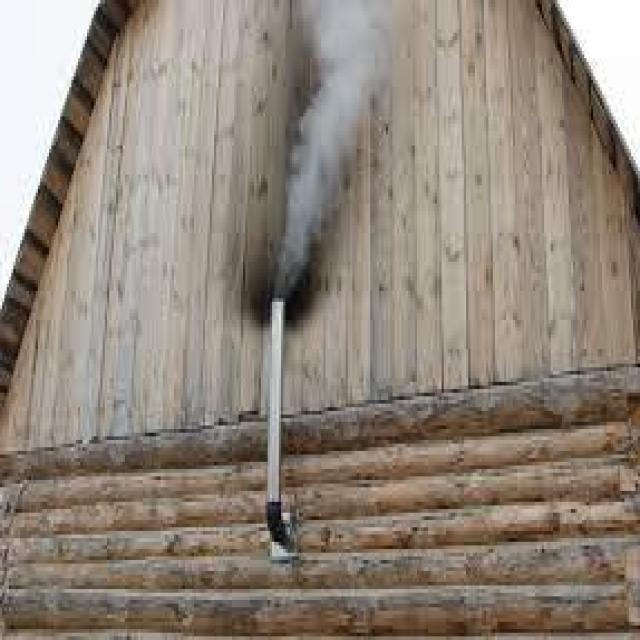Smoke: (256, 6, 376, 306)
